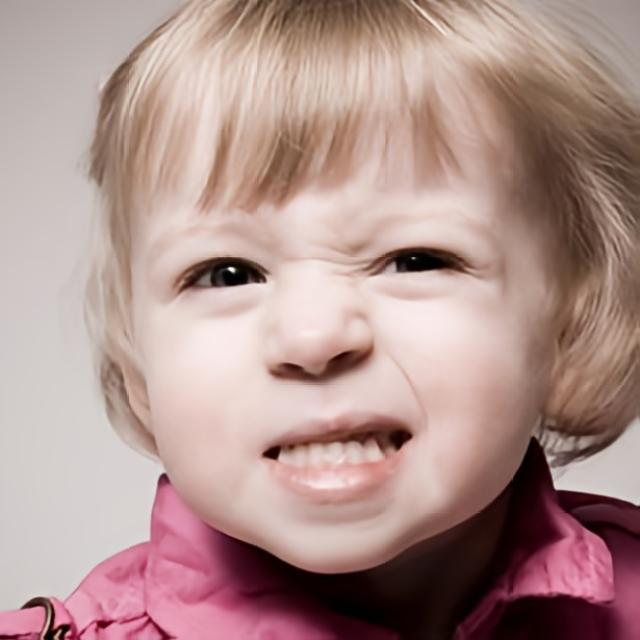anger: (135, 36, 554, 576)
